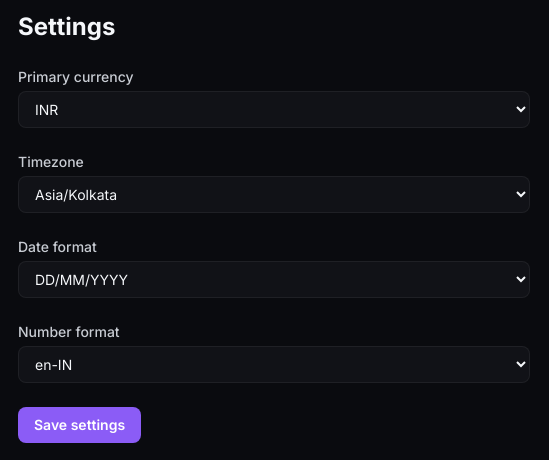
Test: Settings page › saves settings when form is submitted
The width and height of the screenshot is (549, 460).
Select "USD" in the dropdown labelled "Primary currency" at (274, 110), box x1=18 y1=91 x2=530 y2=128
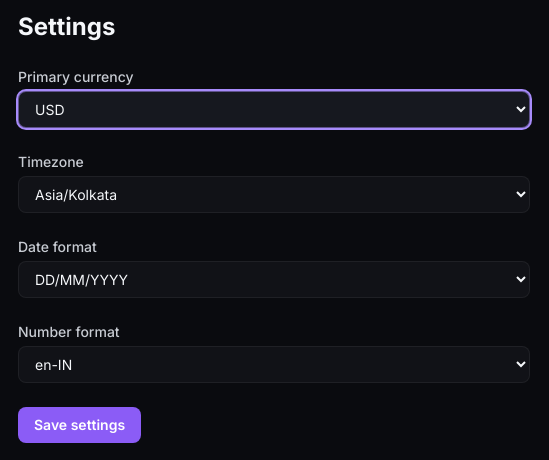
Click the button "Save settings" at (80, 425), box x1=18 y1=407 x2=141 y2=443
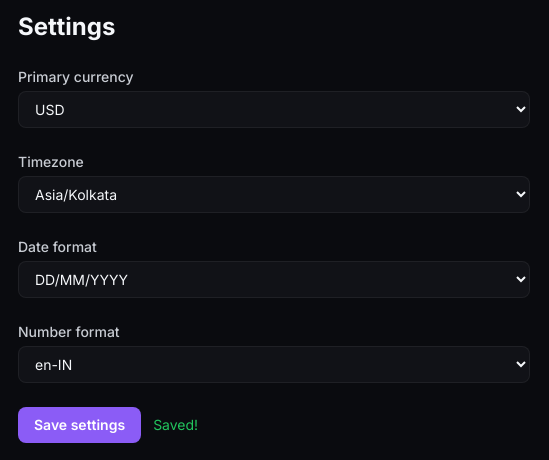
expect the text "Saved!" is shown: met, box x1=153 y1=415 x2=198 y2=435
